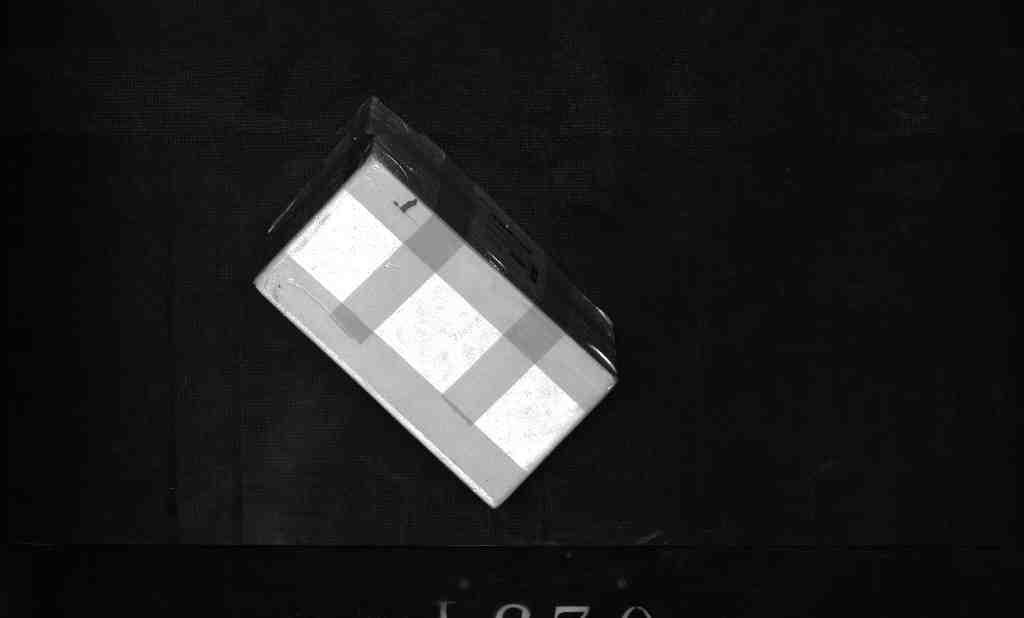box: (234, 106, 628, 501)
